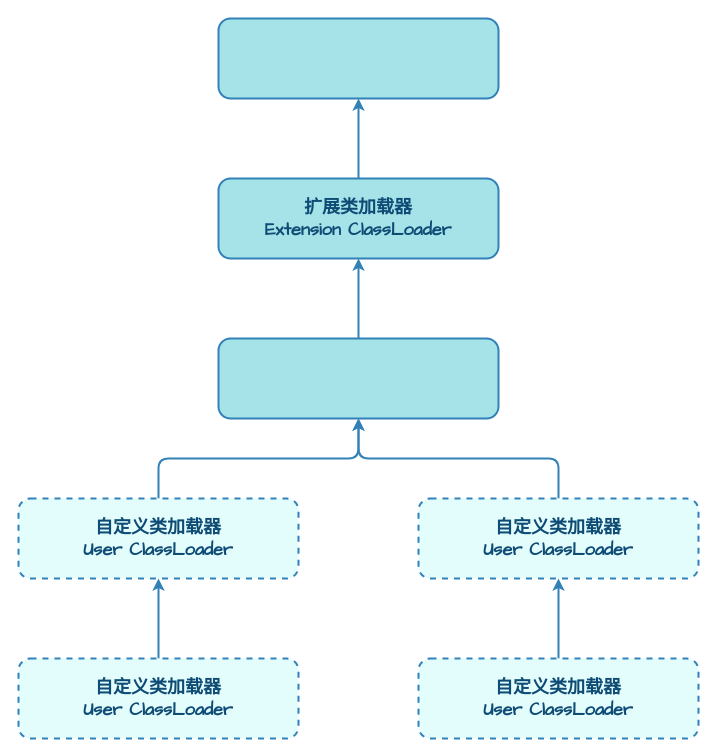
The diagram is 716 pixels wide and 756 high, and some of its shapes have lost their labels. Here are the shapes that lost their labels. From the top down, the centre of each, then its label:
At [358,58]: "启动类加载器 Bootstrap ClassLoader".
At [358,378]: "应用程序类加载器 Application ClassLoader".
